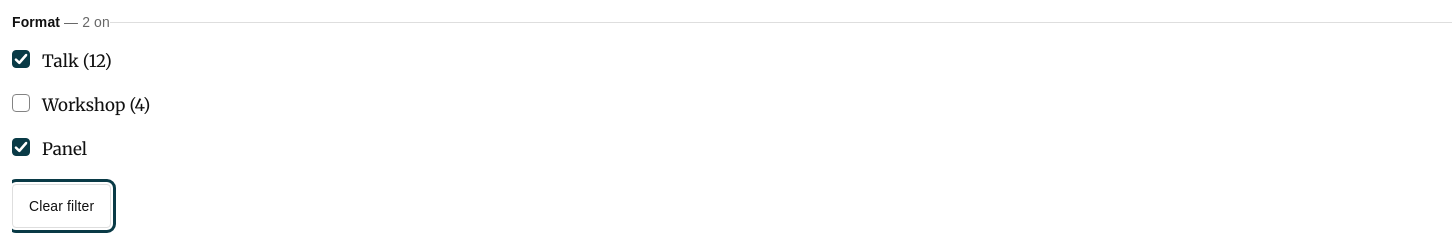
Test: FilterGroup › puts focus on the first box when the clear control clears itself away
Step 1. Click the button "Clear filter" → (62, 206), box [12,184,111,228]
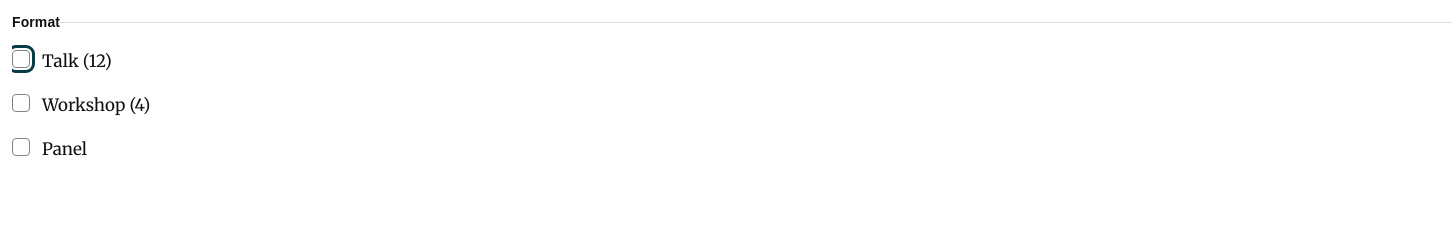
Result: the button "Clear filter" is gone
